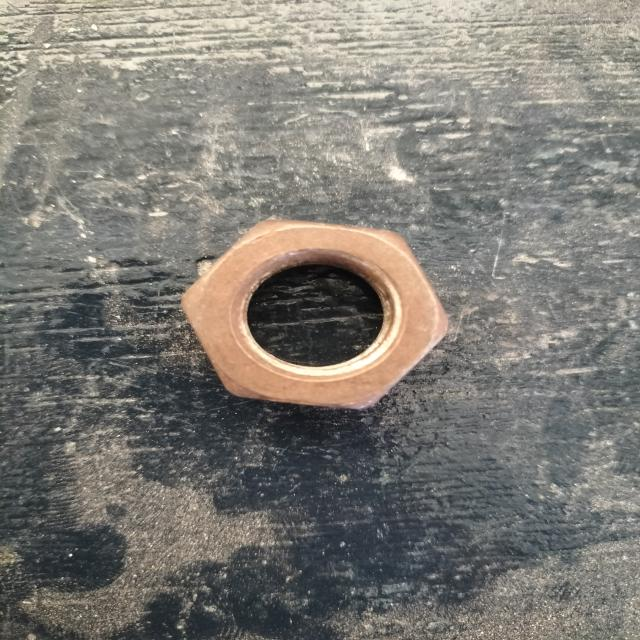nuts: (181, 219, 450, 410)
